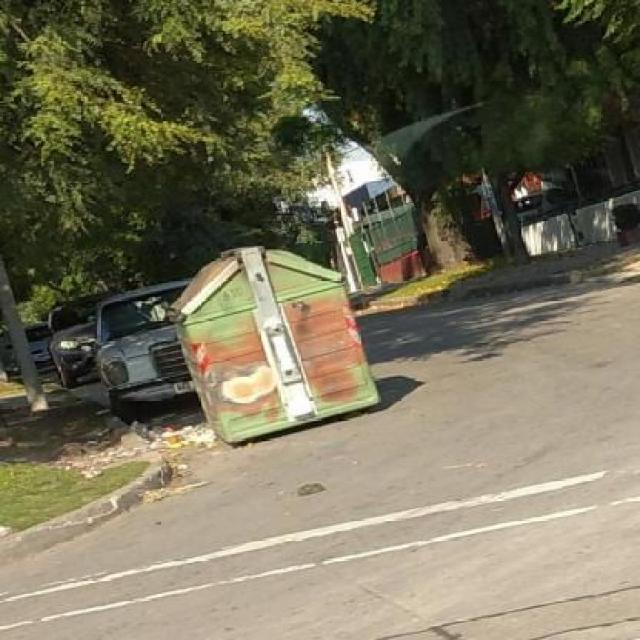garbage: (68, 411, 222, 468), (0, 419, 71, 479), (142, 482, 211, 500), (296, 479, 340, 500)
